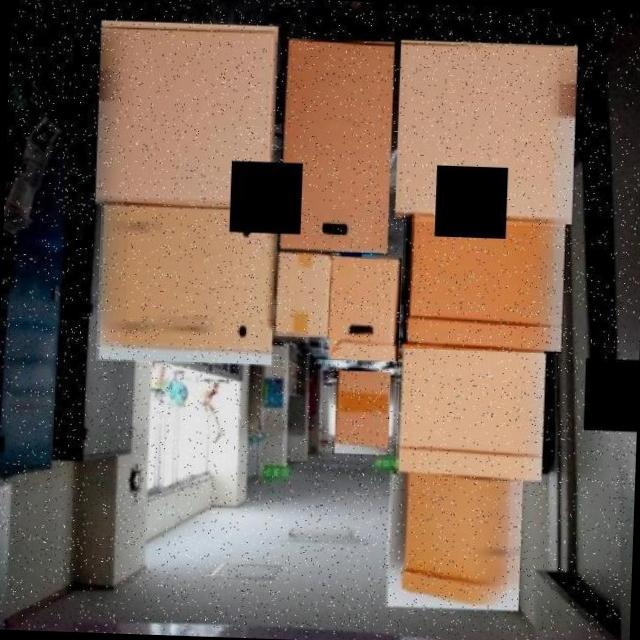box: (91, 17, 280, 210), (390, 35, 580, 226), (95, 198, 278, 366), (278, 35, 394, 255), (399, 205, 567, 354), (393, 342, 546, 482), (384, 470, 524, 612), (326, 252, 404, 363), (332, 367, 392, 456), (274, 248, 332, 338)
